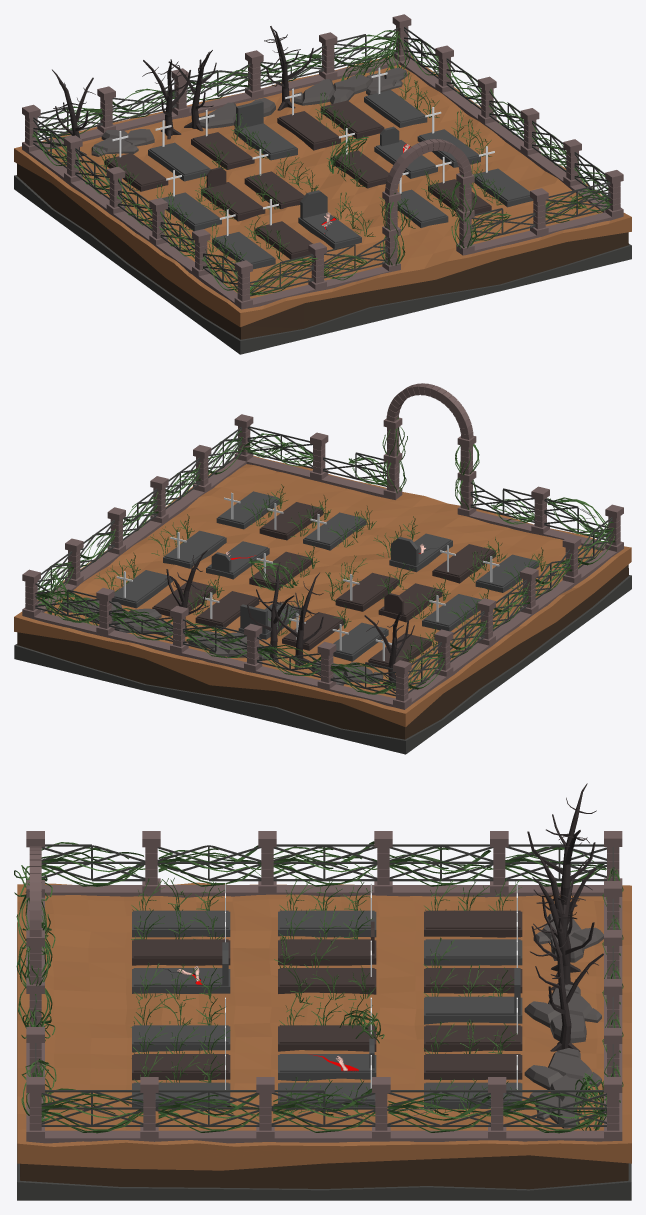
File: 01 Zombie_10.FBX
3 views of the same model, one above another, from view 1: azimuth 30°, elevation 25°; view 2: azimuth 150°, elevation 25°; view 3: azimuth 270°, elevation 25° (orthographic). The views are drawn at different scales.
Parts seen in each view (by area): view 1: Base, Fence_1, Fence, Gate, Box033, Box059, Box043, Box039, Rock Type4 01 mesh003, Box029, Box035, Box031 (+24 smaller); view 2: Base, Fence_1, Fence, Gate, Box059, Box045, Box043, Box065, Box057, Box053, Box067, Box063 (+24 smaller); view 3: Base, Fence_1, Fence, Box033, Box027, Box059, Box029, Box043, Box041, Box055, Box051, Box035 (+29 smaller).
Part boxes in pixels (left/top/right/bottom): Base: left=14, top=56, right=631, bottom=354; Fence_1: left=22, top=14, right=623, bottom=309; Fence: left=33, top=27, right=610, bottom=296; Gate: left=382, top=139, right=474, bottom=271; Box033: left=234, top=100, right=297, bottom=160; Box059: left=298, top=190, right=361, bottom=248; Box043: left=201, top=167, right=265, bottom=221; Box039: left=364, top=67, right=427, bottom=127; Rock Type4 01 mesh003: left=291, top=74, right=371, bottom=105; Box029: left=148, top=120, right=210, bottom=181; Box035: left=277, top=88, right=340, bottom=150; Box031: left=191, top=109, right=254, bottom=169; Base: left=14, top=455, right=631, bottom=754; Fence_1: left=22, top=414, right=623, bottom=709; Fence: left=35, top=426, right=612, bottom=696; Gate: left=383, top=383, right=476, bottom=516; Box059: left=389, top=533, right=452, bottom=572; Box045: left=335, top=572, right=399, bottom=611; Box043: left=378, top=583, right=442, bottom=622; Box065: left=259, top=502, right=323, bottom=540; Box057: left=432, top=544, right=495, bottom=583; Box053: left=163, top=530, right=226, bottom=568; Box067: left=216, top=491, right=279, bottom=529; Box063: left=303, top=512, right=366, bottom=550; Base: left=17, top=882, right=631, bottom=1200; Fence_1: left=26, top=831, right=622, bottom=1143; Fence: left=35, top=844, right=613, bottom=1126; Box033: left=424, top=968, right=522, bottom=1024; Box027: left=424, top=883, right=522, bottom=937; Box059: left=132, top=942, right=230, bottom=993; Box029: left=424, top=912, right=522, bottom=965; Box043: left=278, top=921, right=376, bottom=965; Box041: left=278, top=883, right=376, bottom=937; Box055: left=132, top=883, right=230, bottom=937; Box051: left=278, top=1038, right=376, bottom=1080; Box035: left=424, top=997, right=522, bottom=1051.
Bounding box in the file's own units: 10004 × 3909 × 10053.
